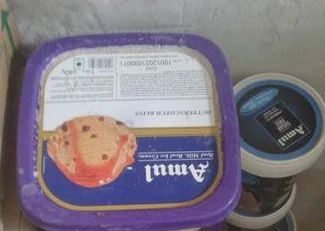Amul: (142, 162, 212, 187)
